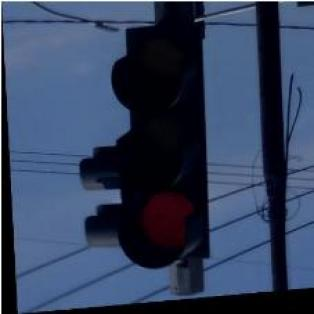Semaforo Rojo: (108, 26, 212, 272)
